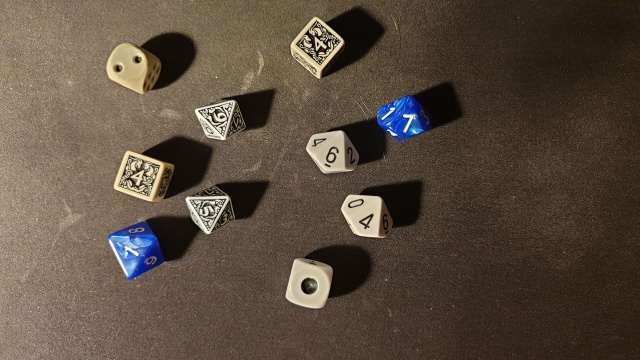d10-1: (102, 217, 174, 282)
d10-4: (339, 189, 401, 249)
d10-6: (299, 121, 364, 179)
d10-7: (376, 91, 436, 145)
d6-1: (279, 253, 340, 312)
d6-2: (100, 38, 166, 97)
d6p-4: (108, 145, 177, 207), (287, 14, 350, 80)
d8p-5: (182, 182, 243, 239)
d8p-6: (194, 93, 249, 145)
